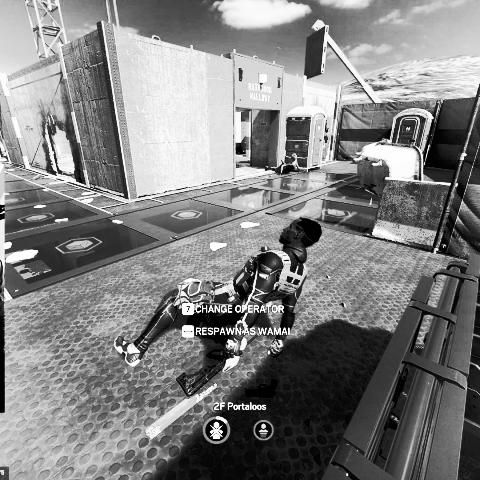Character: (113, 214, 326, 374), (264, 151, 302, 174)
Head: (277, 216, 323, 248), (290, 152, 298, 161)
